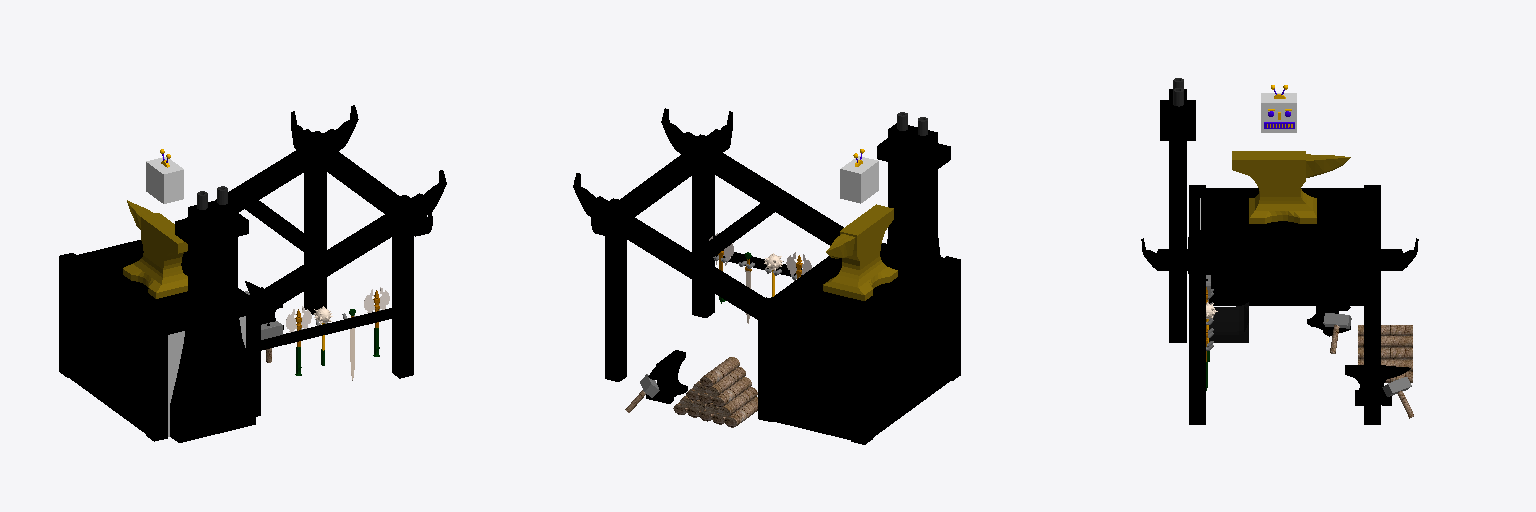
3 renders of one model, left to right at view 1: azimuth 30°, elevation 25°; view 2: azimuth 150°, elevation 25°; view 3: azimuth 270°, elevation 25°, orthographic.
Visible parts, largest first — view 1: DucksUPGRADE3:pCone4 DucksUPGRADE3:polySurface69, DucksUPGRADE3:pCone4 DucksUPGRADE3:polySurface65, DucksUPGRADE3:pCone4 DucksUPGRADE3:polySurface17, DucksUPGRADE3:polySurface9, DucksUPGRADE3:pCone4 DucksUPGRADE3:polySurface15, DucksUPGRADE3:pCone4 DucksUPGRADE3:polySurface66, DucksUPGRADE3:polySurface10 DucksUPGRADE3:pCone4, DucksUPGRADE3:pCone4 DucksUPGRADE3:polySurface14, DucksUPGRADE3:pCone4 DucksUPGRADE3:polySurface16, DucksUPGRADE3:pCone4 DucksUPGRADE3:polySurface23, DucksUPGRADE3:pCone4 DucksUPGRADE3:polySurface22, Robot:pCube25 (+9 smaller); view 2: DucksUPGRADE3:pCone4 DucksUPGRADE3:polySurface60, DucksUPGRADE3:pCone4 DucksUPGRADE3:polySurface65, DucksUPGRADE3:pCone4 DucksUPGRADE3:polySurface69, DucksUPGRADE3:pCone4 DucksUPGRADE3:polySurface16, DucksUPGRADE3:pCone4 DucksUPGRADE3:polySurface66, DucksUPGRADE3:polySurface9, DucksUPGRADE3:pCone4 DucksUPGRADE3:polySurface17, DucksUPGRADE3:pCone4 DucksUPGRADE3:polySurface14, DucksUPGRADE3:pCone4 DucksUPGRADE3:polySurface15, DucksUPGRADE3:pCone4 DucksUPGRADE3:polySurface13, DucksUPGRADE3:pCone4 DucksUPGRADE3:polySurface12, DucksUPGRADE3:pCone4 DucksUPGRADE3:polySurface22 (+10 smaller); view 3: DucksUPGRADE3:polySurface9, DucksUPGRADE3:pCone4 DucksUPGRADE3:polySurface66, DucksUPGRADE3:pCone4 DucksUPGRADE3:polySurface67, DucksUPGRADE3:pCone4 DucksUPGRADE3:polySurface69, DucksUPGRADE3:pCone4 DucksUPGRADE3:polySurface15, DucksUPGRADE3:pCone4 DucksUPGRADE3:polySurface14, DucksUPGRADE3:pCone4 DucksUPGRADE3:polySurface23, DucksUPGRADE3:pCone4 DucksUPGRADE3:polySurface22, DucksUPGRADE3:pCone4 DucksUPGRADE3:polySurface19, Robot:pCube25, DucksUPGRADE3:pCone4 DucksUPGRADE3:polySurface74, DucksUPGRADE3:pCone4 DucksUPGRADE3:polySurface70 (+3 smaller).
Boxes of the visible parts, x1=… form: DucksUPGRADE3:pCone4 DucksUPGRADE3:polySurface69: x1=170, y1=197, x2=255, y2=442; DucksUPGRADE3:pCone4 DucksUPGRADE3:polySurface65: x1=68, y1=275, x2=145, y2=433; DucksUPGRADE3:pCone4 DucksUPGRADE3:polySurface17: x1=255, y1=170, x2=446, y2=317; DucksUPGRADE3:polySurface9: x1=123, y1=200, x2=187, y2=298; DucksUPGRADE3:pCone4 DucksUPGRADE3:polySurface15: x1=392, y1=195, x2=413, y2=378; DucksUPGRADE3:pCone4 DucksUPGRADE3:polySurface66: x1=78, y1=245, x2=239, y2=319; DucksUPGRADE3:polySurface10 DucksUPGRADE3:pCone4: x1=146, y1=317, x2=167, y2=441; DucksUPGRADE3:pCone4 DucksUPGRADE3:polySurface14: x1=304, y1=131, x2=326, y2=314; DucksUPGRADE3:pCone4 DucksUPGRADE3:polySurface16: x1=185, y1=105, x2=358, y2=218; DucksUPGRADE3:pCone4 DucksUPGRADE3:polySurface23: x1=355, y1=174, x2=432, y2=236; DucksUPGRADE3:pCone4 DucksUPGRADE3:polySurface22: x1=291, y1=111, x2=368, y2=191; Robot:pCube25: x1=146, y1=149, x2=183, y2=203; DucksUPGRADE3:pCone4 DucksUPGRADE3:polySurface60: x1=773, y1=312, x2=850, y2=439; DucksUPGRADE3:pCone4 DucksUPGRADE3:polySurface65: x1=873, y1=279, x2=950, y2=437; DucksUPGRADE3:pCone4 DucksUPGRADE3:polySurface69: x1=887, y1=123, x2=940, y2=256; DucksUPGRADE3:pCone4 DucksUPGRADE3:polySurface16: x1=573, y1=173, x2=764, y2=320; DucksUPGRADE3:pCone4 DucksUPGRADE3:polySurface66: x1=780, y1=249, x2=940, y2=322; DucksUPGRADE3:polySurface9: x1=823, y1=204, x2=897, y2=300; DucksUPGRADE3:pCone4 DucksUPGRADE3:polySurface17: x1=661, y1=108, x2=843, y2=245; DucksUPGRADE3:pCone4 DucksUPGRADE3:polySurface14: x1=605, y1=198, x2=626, y2=381; DucksUPGRADE3:pCone4 DucksUPGRADE3:polySurface15: x1=692, y1=134, x2=714, y2=317; DucksUPGRADE3:pCone4 DucksUPGRADE3:polySurface13: x1=851, y1=320, x2=872, y2=444; DucksUPGRADE3:pCone4 DucksUPGRADE3:polySurface12: x1=758, y1=297, x2=779, y2=421; DucksUPGRADE3:pCone4 DucksUPGRADE3:polySurface22: x1=591, y1=174, x2=668, y2=236; DucksUPGRADE3:polySurface9: x1=1232, y1=151, x2=1350, y2=223; DucksUPGRADE3:pCone4 DucksUPGRADE3:polySurface66: x1=1201, y1=193, x2=1366, y2=233; DucksUPGRADE3:pCone4 DucksUPGRADE3:polySurface67: x1=1206, y1=271, x2=1363, y2=305; DucksUPGRADE3:pCone4 DucksUPGRADE3:polySurface69: x1=1169, y1=89, x2=1186, y2=342; DucksUPGRADE3:pCone4 DucksUPGRADE3:polySurface15: x1=1189, y1=243, x2=1205, y2=424; DucksUPGRADE3:pCone4 DucksUPGRADE3:polySurface14: x1=1364, y1=243, x2=1380, y2=424; DucksUPGRADE3:pCone4 DucksUPGRADE3:polySurface23: x1=1141, y1=238, x2=1279, y2=270; DucksUPGRADE3:pCone4 DucksUPGRADE3:polySurface22: x1=1280, y1=238, x2=1418, y2=270; DucksUPGRADE3:pCone4 DucksUPGRADE3:polySurface19: x1=1206, y1=234, x2=1363, y2=246; Robot:pCube25: x1=1261, y1=85, x2=1296, y2=132; DucksUPGRADE3:pCone4 DucksUPGRADE3:polySurface74: x1=1209, y1=302, x2=1248, y2=342; DucksUPGRADE3:pCone4 DucksUPGRADE3:polySurface70: x1=1160, y1=100, x2=1195, y2=140.
Bounding box in the file's own units: 14.49 × 11.91 × 11.8.
32 materials, 1 textured.